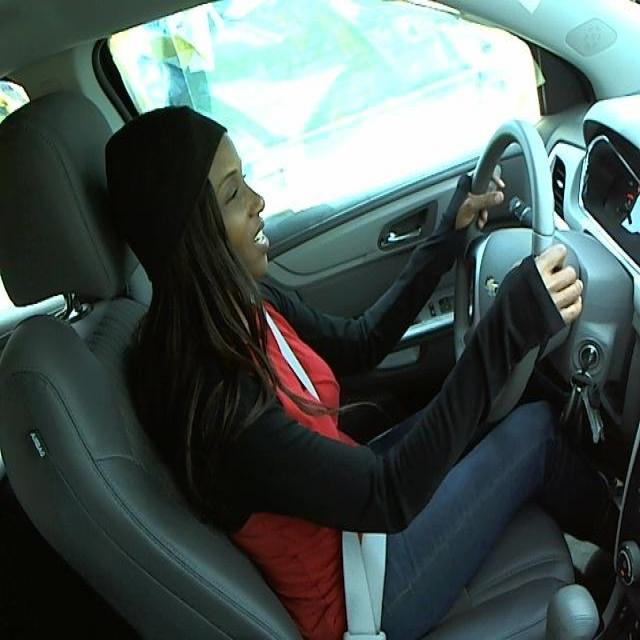without_using_phone: (73, 27, 329, 409)
